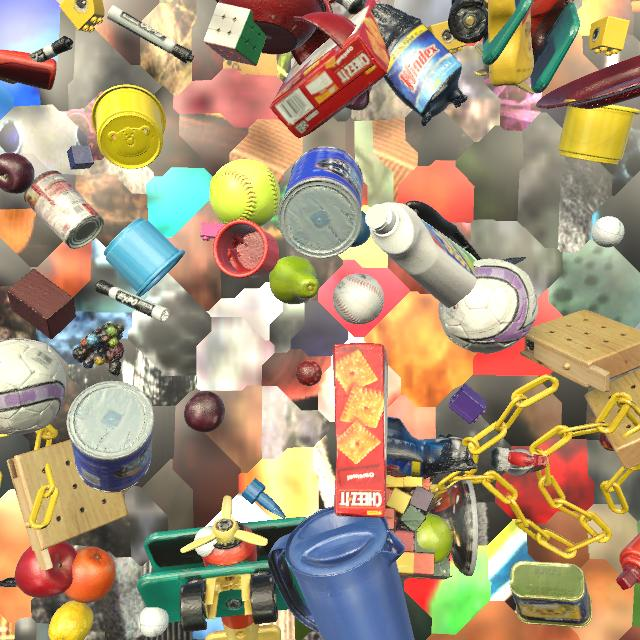ycb_002_master_chef_can: (67, 381, 154, 493), (278, 146, 363, 259)
ycb_003_cracker_box: (270, 0, 390, 138), (332, 343, 388, 518)
ycb_005_tomato_soup_can: (24, 171, 104, 249)
ycb_006_mustard_bottle: (488, 0, 534, 87)
ycb_010_potted_meat_can: (510, 561, 592, 628)
ycb_012_strawberry: (390, 475, 407, 478)
ycb_013_apple: (15, 541, 77, 598)
ycb_014_lemon: (48, 600, 93, 640)
ycb_016_pear: (269, 256, 319, 304), (416, 513, 453, 564)
ycb_017_orange: (64, 546, 116, 603)
ycb_018_plum: (184, 391, 225, 432), (0, 153, 35, 194)
